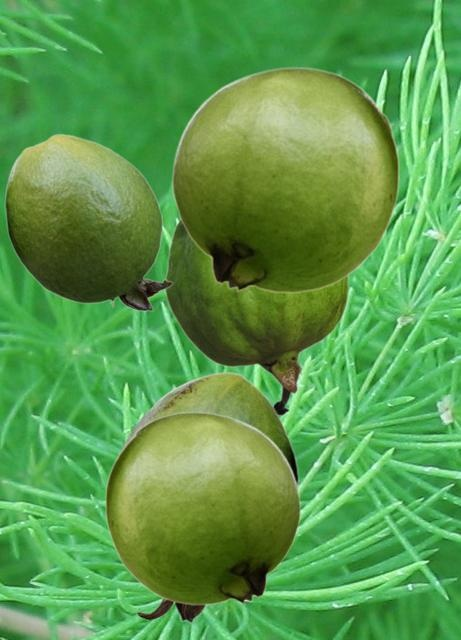guava: (171, 66, 399, 292), (113, 372, 298, 622), (104, 411, 300, 605), (163, 220, 348, 415), (4, 133, 172, 310)
